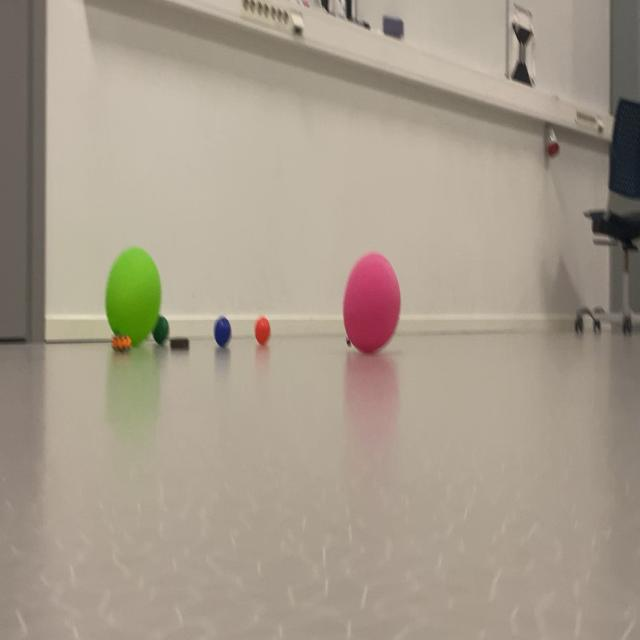7: (250, 298, 279, 365)
blue ball: (146, 312, 288, 346)
green ball: (211, 298, 236, 369)
red ball: (151, 295, 168, 373)
